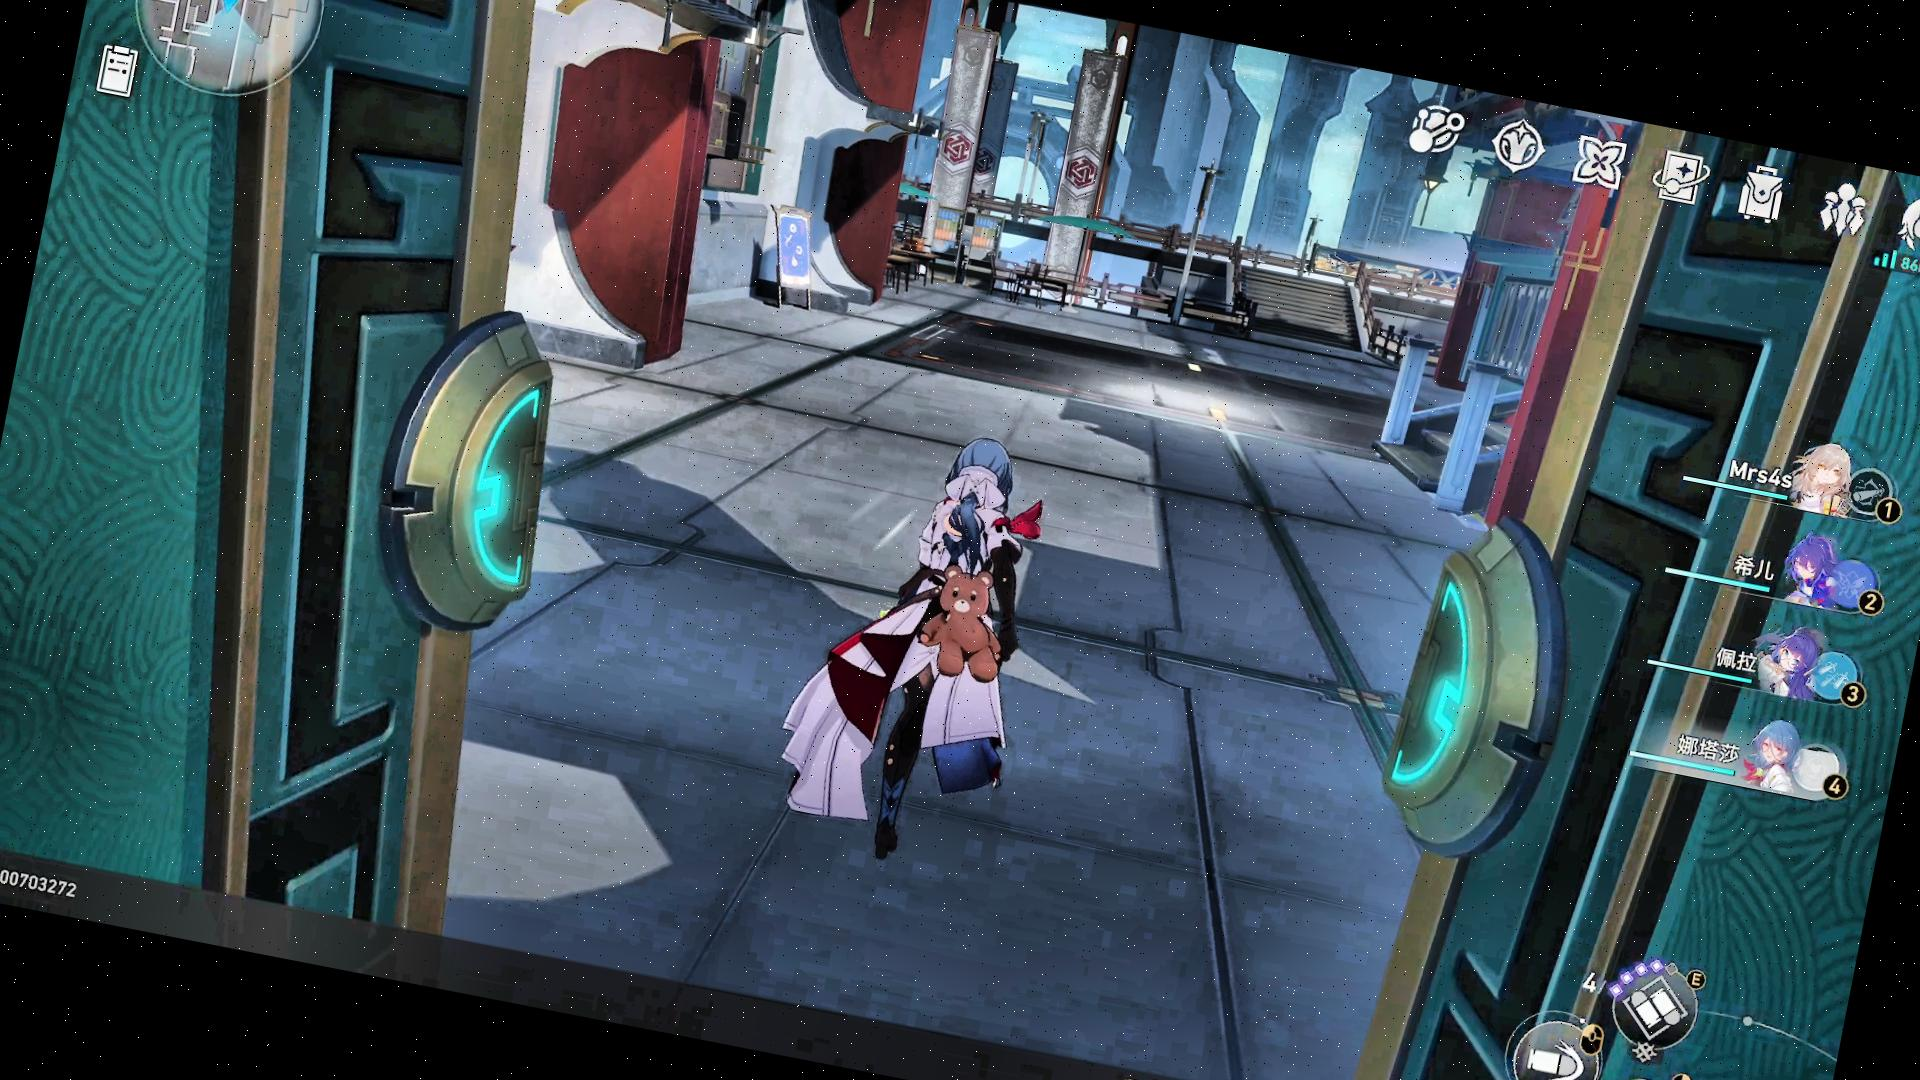Self: (758, 413, 1073, 889)
